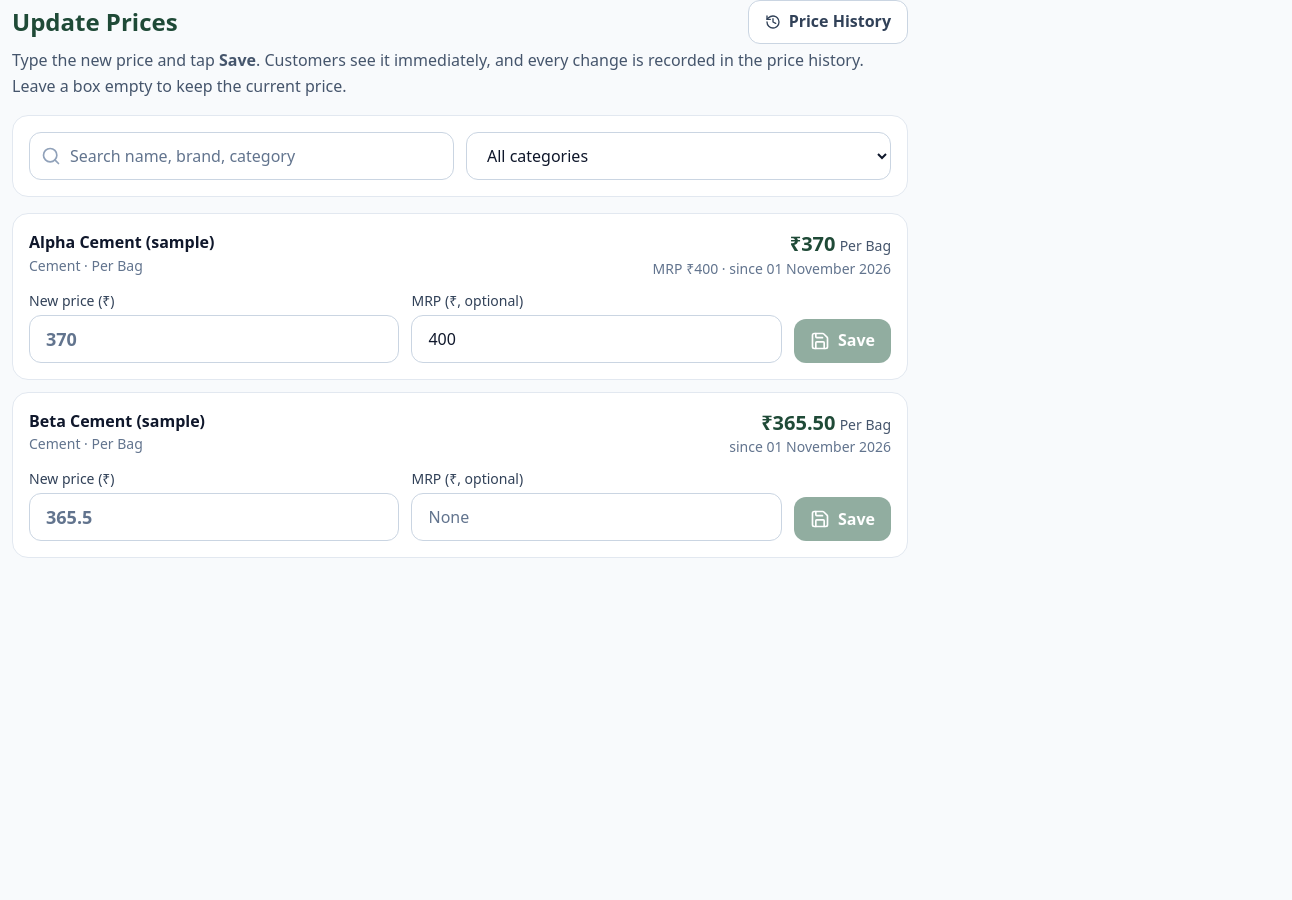
Test: Update Prices page › saves several changed rows with "Save all changes"
Type "375" into the field labelled "New price (₹)" below "Alpha Cement (sample)" at x=214, y=339, box [29,315,400,363]
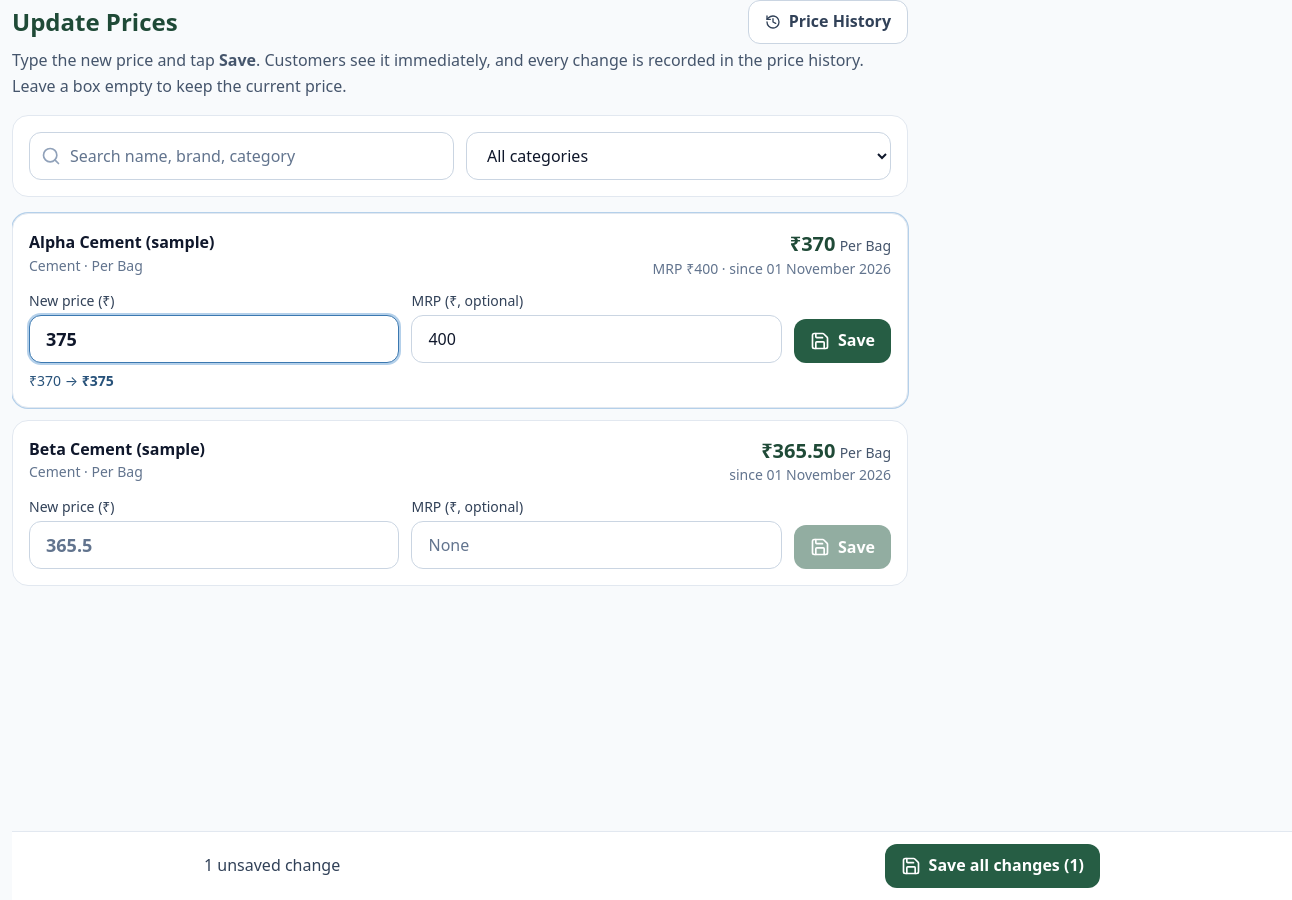
Type "360" into the field labelled "New price (₹)" below "Beta Cement (sample)" at x=214, y=545, box [29,521,400,569]
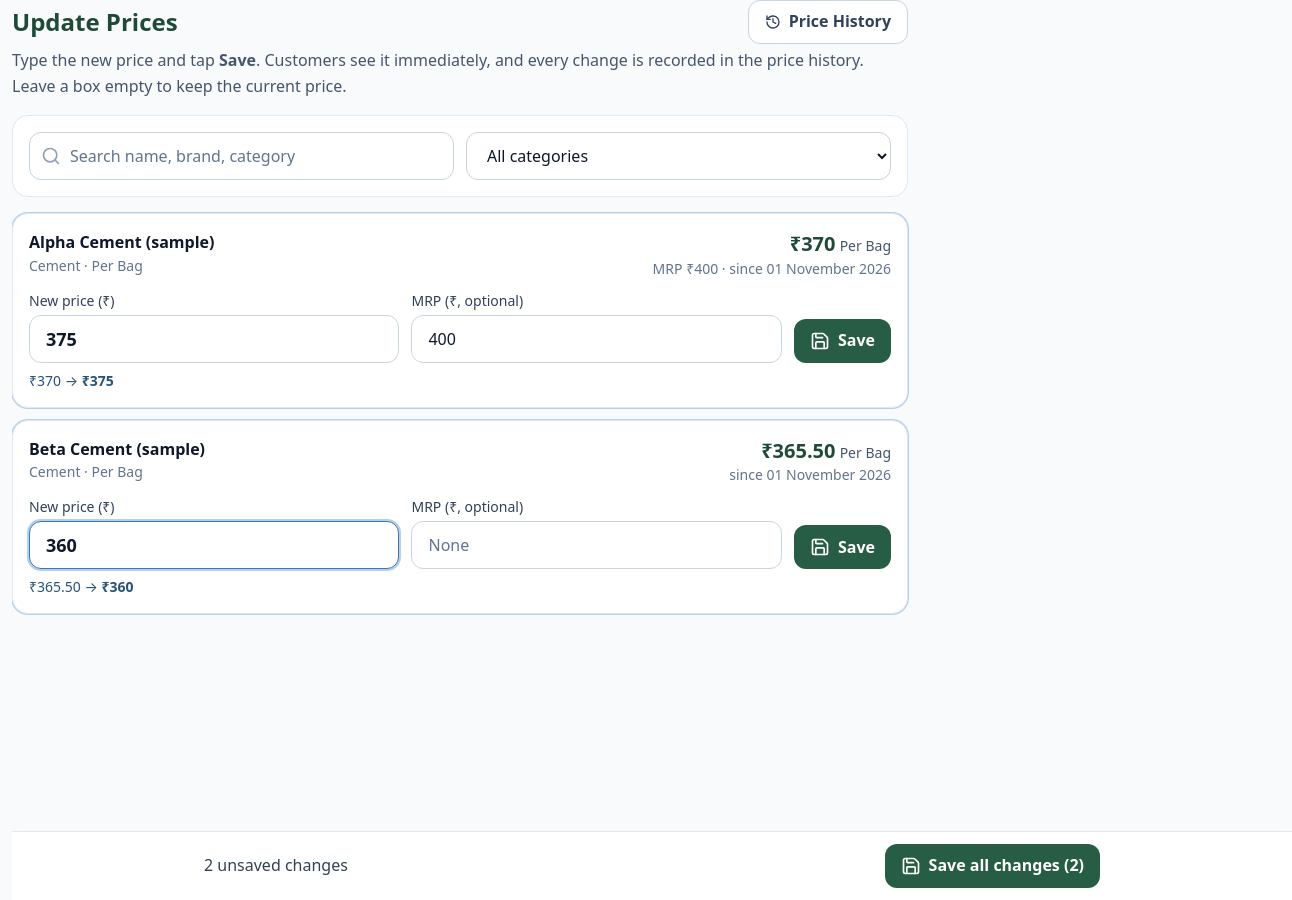
Result: the text "2 unsaved changes" is shown at [204,853,348,879]
Click the button "Save all changes (2)" at x=992, y=866, box [885,844,1100,888]
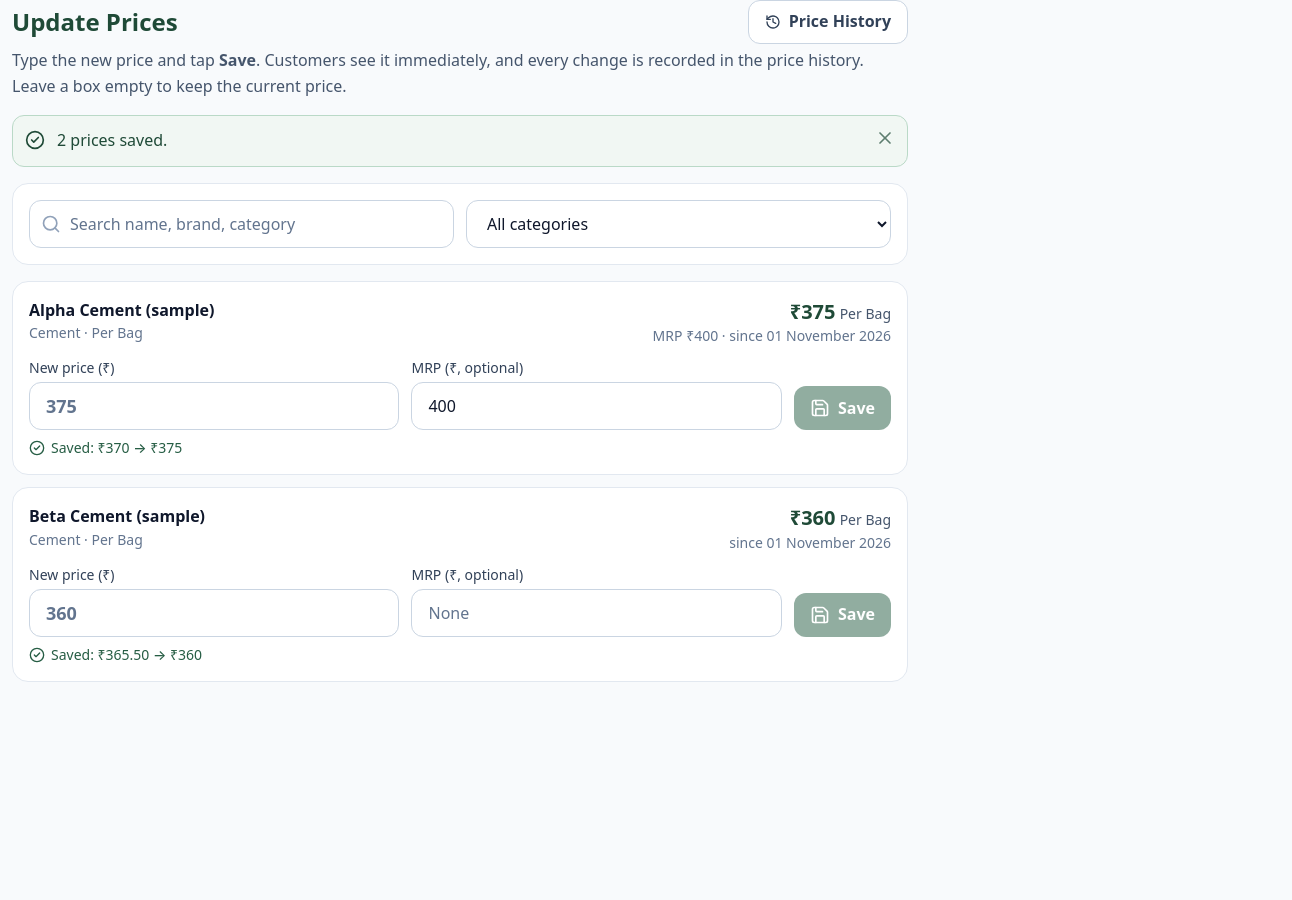
Result: the text "2 prices saved." is shown at [57,129,167,151]
Result: the text "unsaved change" is gone
